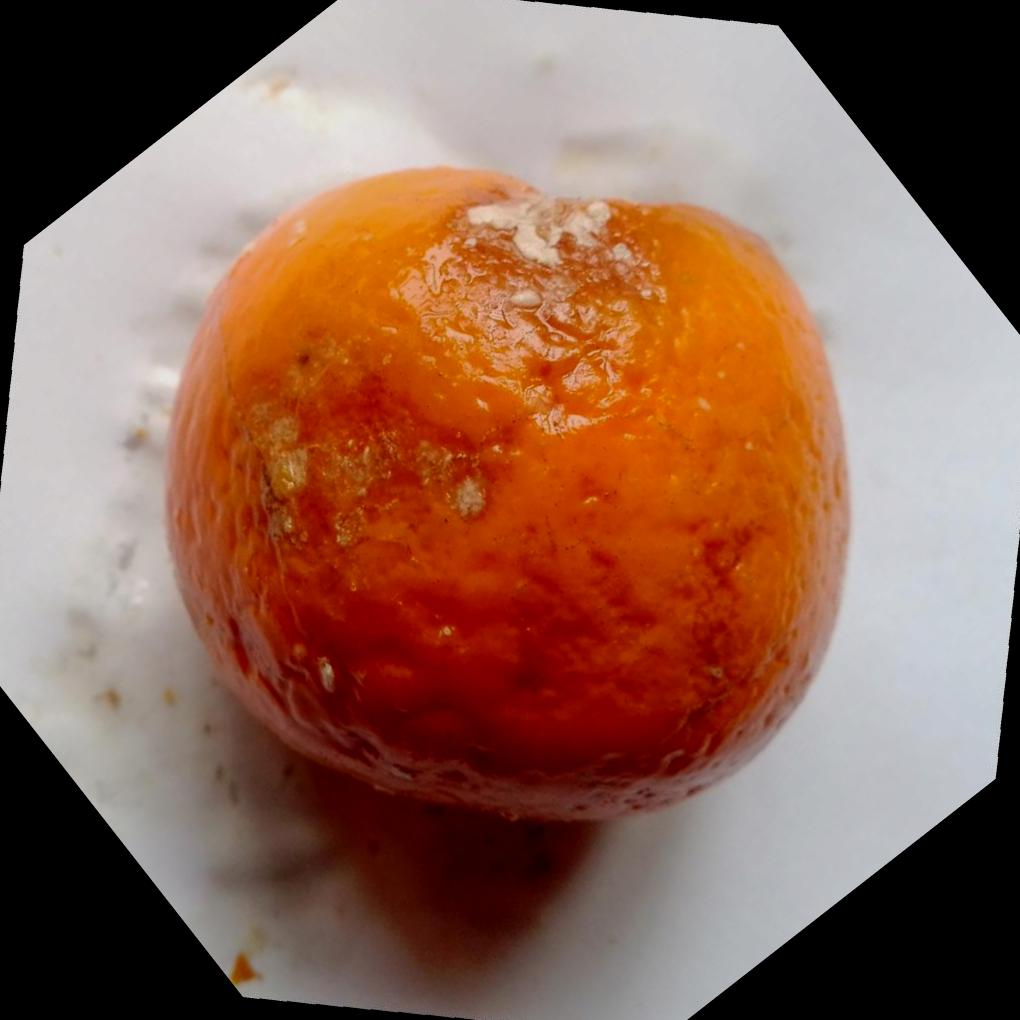FreshOrange: (163, 160, 856, 821)
